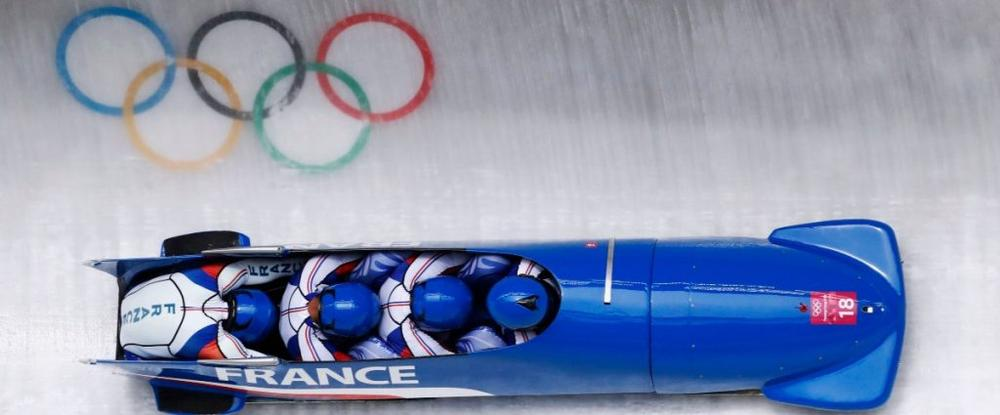Bobsleigh: (85, 217, 907, 405)
